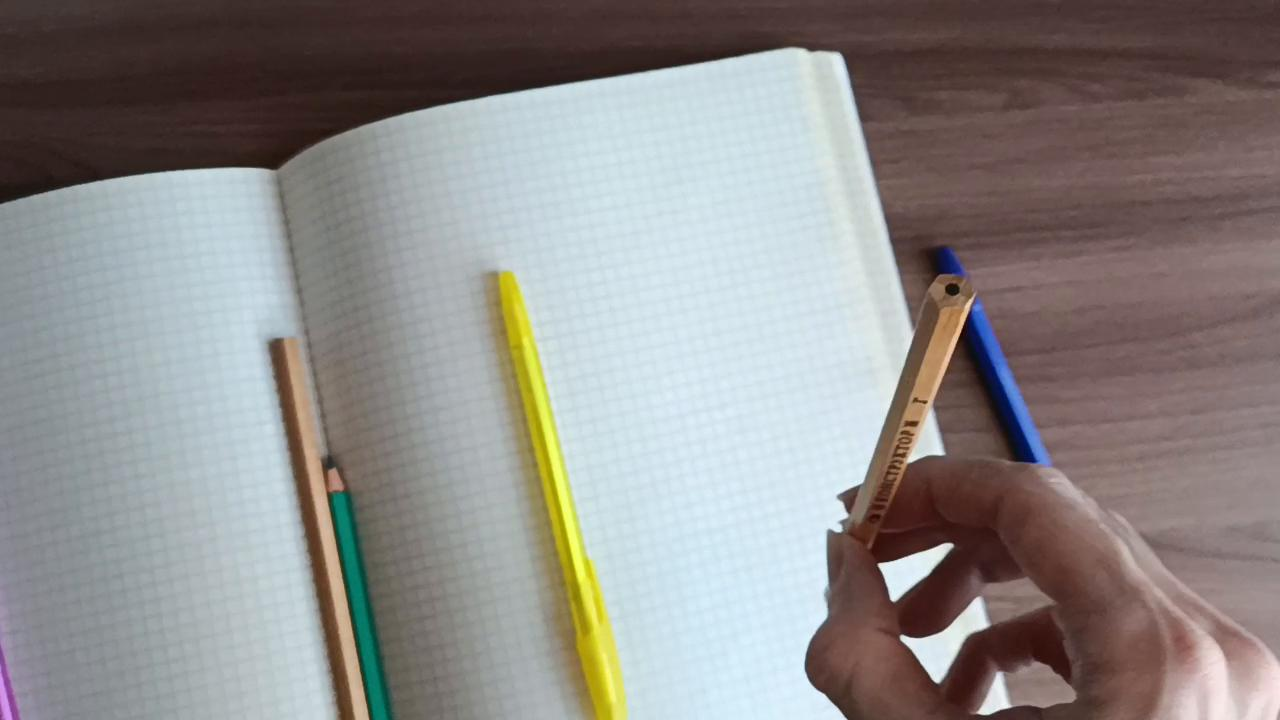pen: (484, 253, 637, 720), (936, 243, 1071, 498)
pencil: (247, 323, 369, 720), (833, 269, 978, 558), (319, 453, 401, 720)
